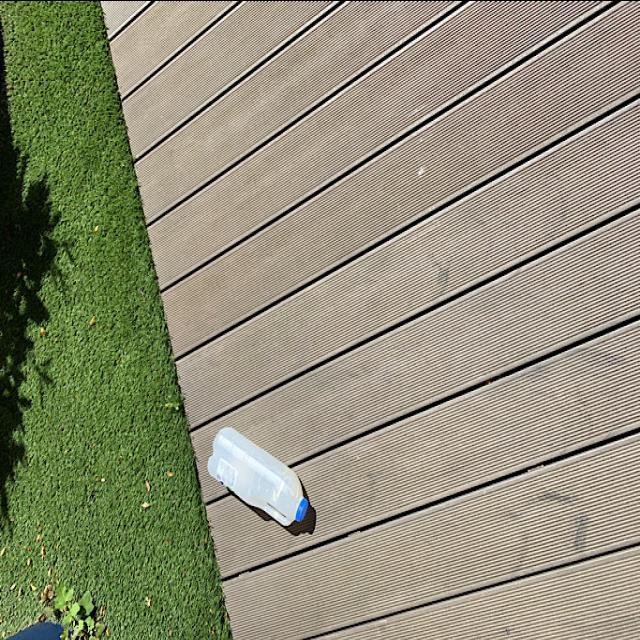HDPEM: (205, 423, 311, 532)
